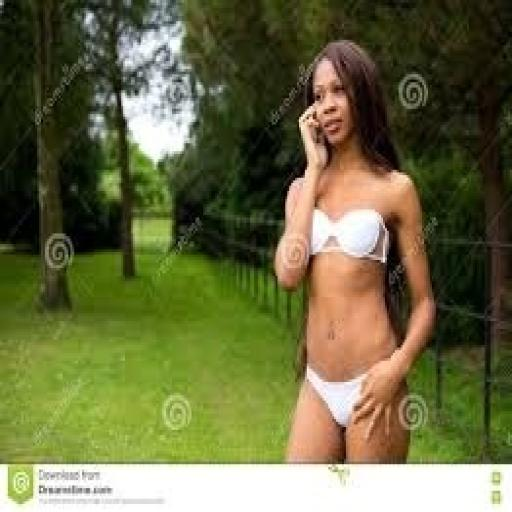calling: (270, 37, 438, 464)
